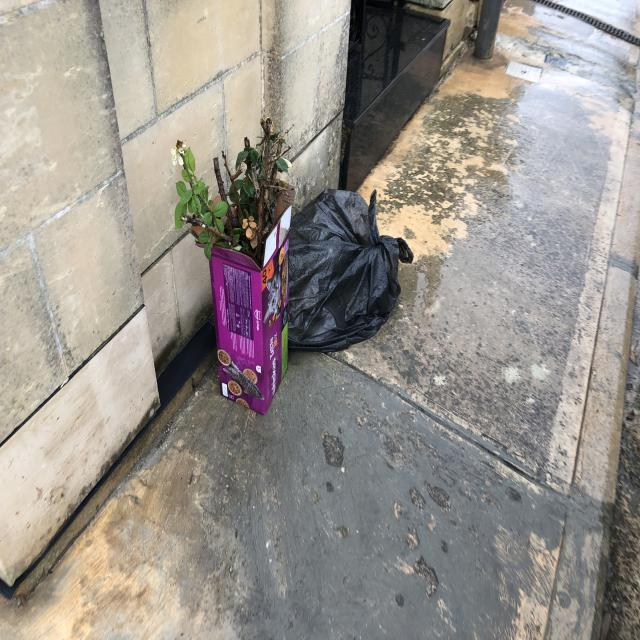Mixed Waste -Black Bag-: (289, 193, 416, 354)
Other: (175, 122, 293, 415)
